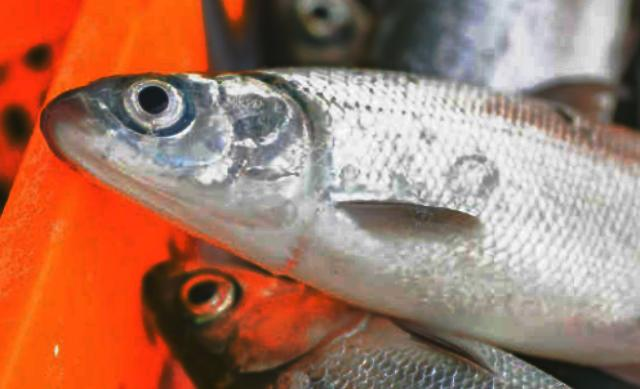Healthy Fish: (39, 66, 640, 389)
